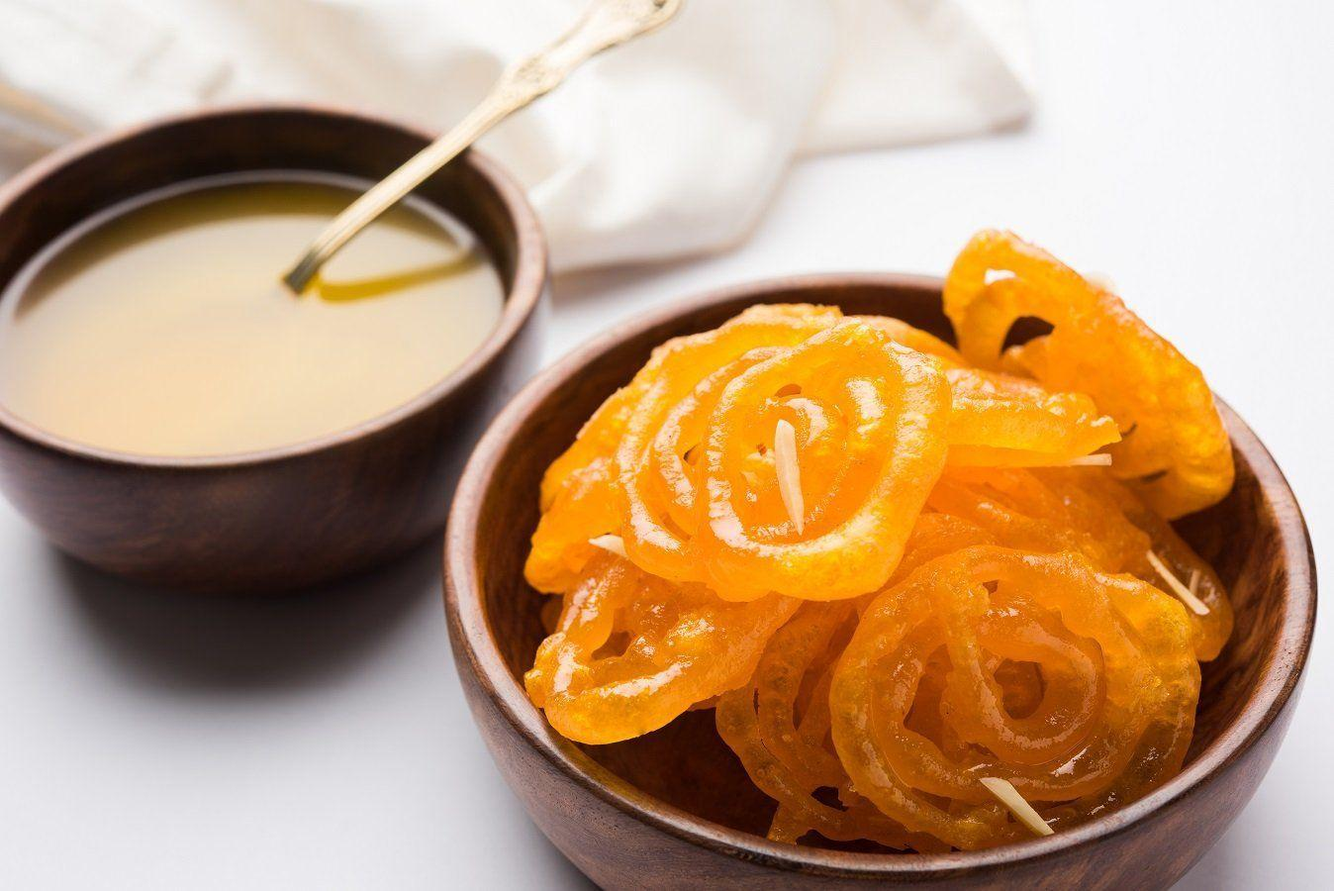jalebi: (512, 256, 1296, 846)
